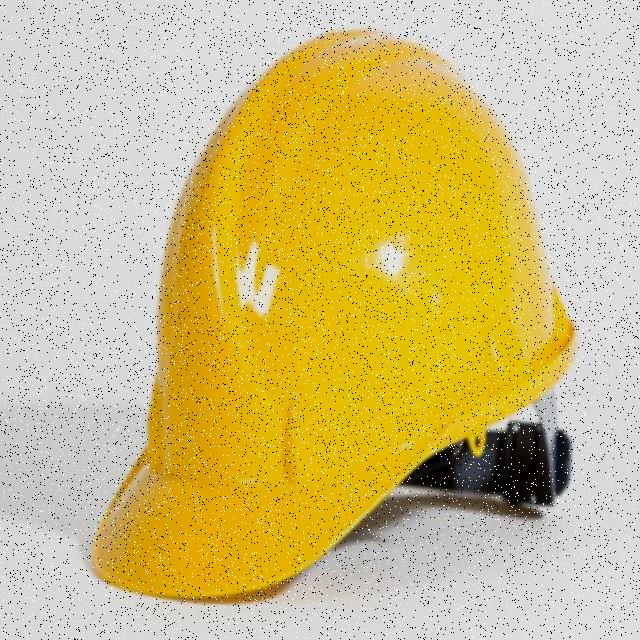with-helmet: (90, 28, 588, 630)
